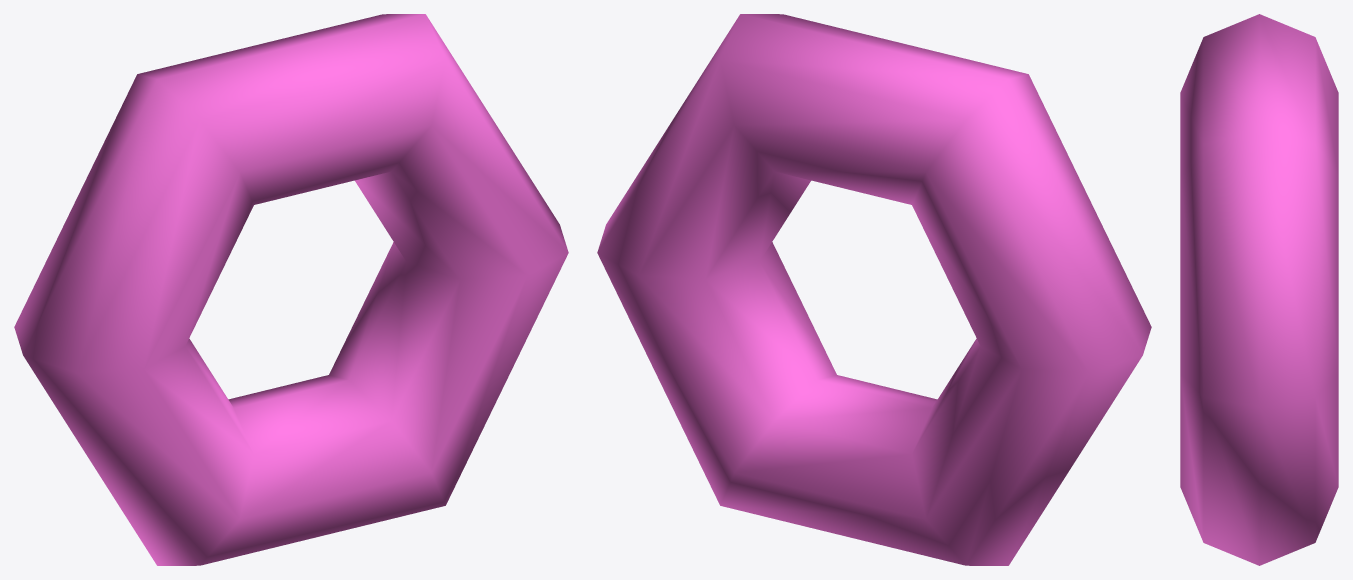
The picture shows the model from 3 angles, left to right: view 1: azimuth 30°, elevation 25°; view 2: azimuth 150°, elevation 25°; view 3: azimuth 270°, elevation 25°; orthographic projection. The views are drawn at different scales.
Parts seen in each view (by area): view 1: Torus; view 2: Torus; view 3: Torus.
Part boxes in pixels (x1,y1,x2,y2): Torus: (14, 14, 568, 565); Torus: (597, 14, 1151, 565); Torus: (1180, 14, 1338, 565).
Size of the model in its own units: 2.8 by 2.42 by 0.8.
